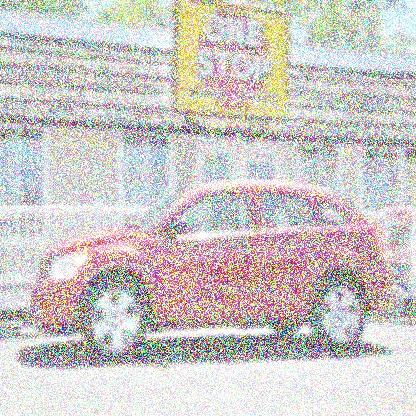Vehicle: (28, 176, 400, 368)
